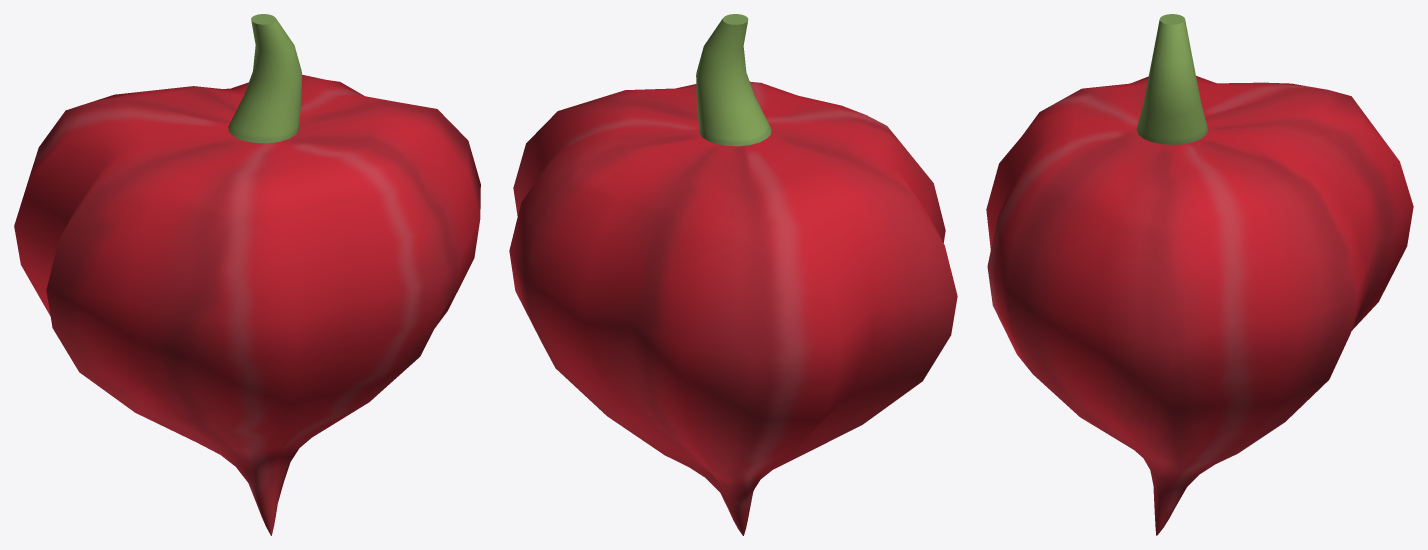
File: CarolinaReaper.fbx
3 renders of one model, left to right at view 1: azimuth 30°, elevation 25°; view 2: azimuth 150°, elevation 25°; view 3: azimuth 270°, elevation 25°, orthographic. The views are drawn at different scales.
Parts seen in each view (by area): view 1: CarolinaReaper; view 2: CarolinaReaper; view 3: CarolinaReaper.
Part boxes in pixels (<box>): CarolinaReaper: <box>14,14,480,535</box>; CarolinaReaper: <box>509,14,957,535</box>; CarolinaReaper: <box>986,14,1413,535</box>.
Bounding box in the file's own units: 62.25 × 69.94 × 52.44.
